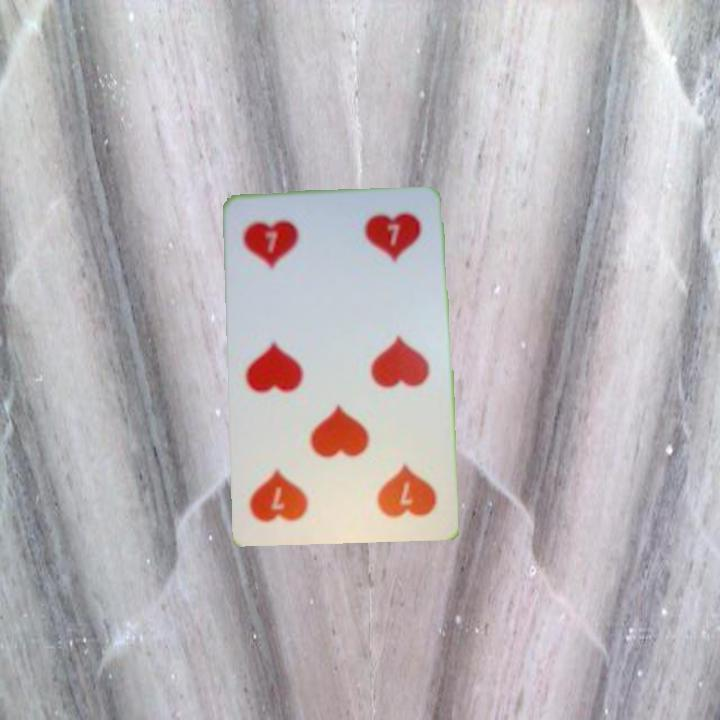h_7.png: (238, 205, 341, 294), (340, 438, 442, 527)
